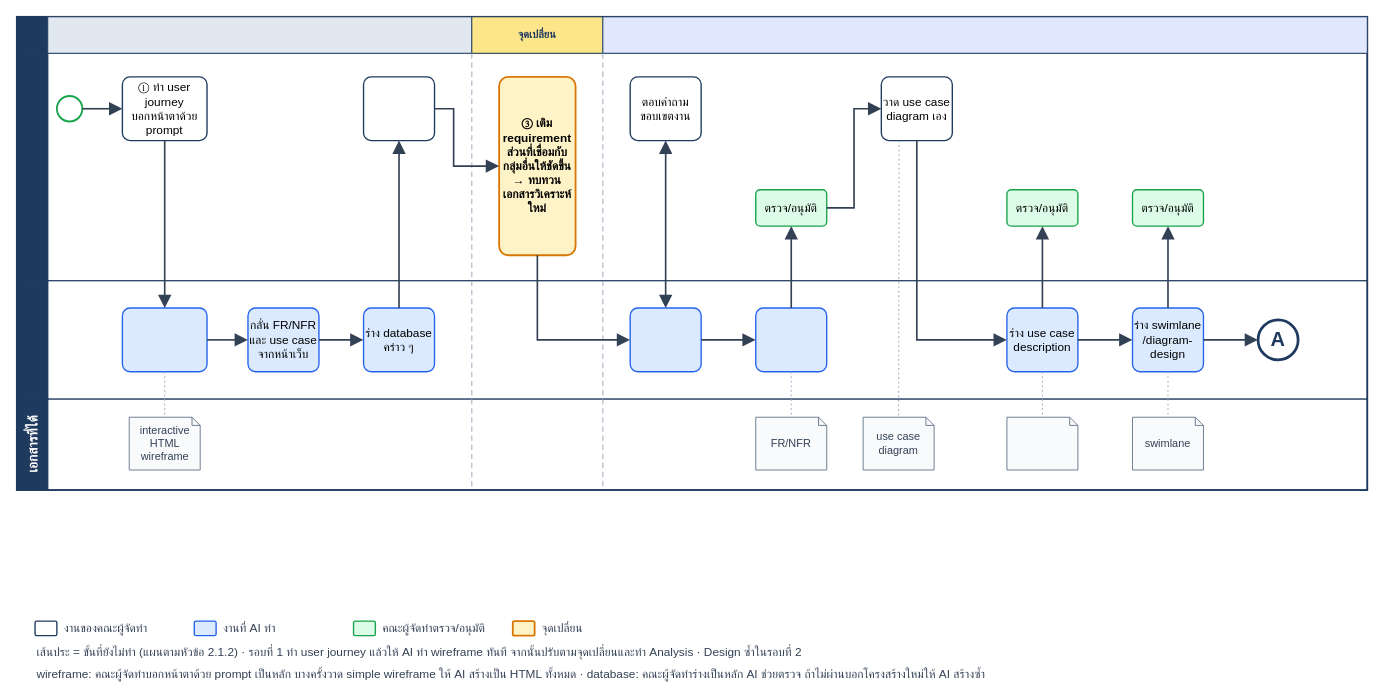
The diagram is 1383 pixels wide and 700 high, and some of its shapes have lost their labels. Here are the shapes that lost their labels. From the top down, the centre of each, then its label:
point 259,34: รอบที่ 1 (ย่อ)
point 984,34: Analysis (รอบที่ 2)
point 398,108: ② ส่งรายงานความคืบหน้า
point 32,166: คณะผู้จัดทำ
point 32,339: AI (Claude Code)
point 164,339: AI ทำ wireframe เป็น HTML 100%
point 665,339: ถามขอบเขตงาน /grill-with-docs
point 791,339: ร่าง FR/NFR
point 1042,443: use case description
